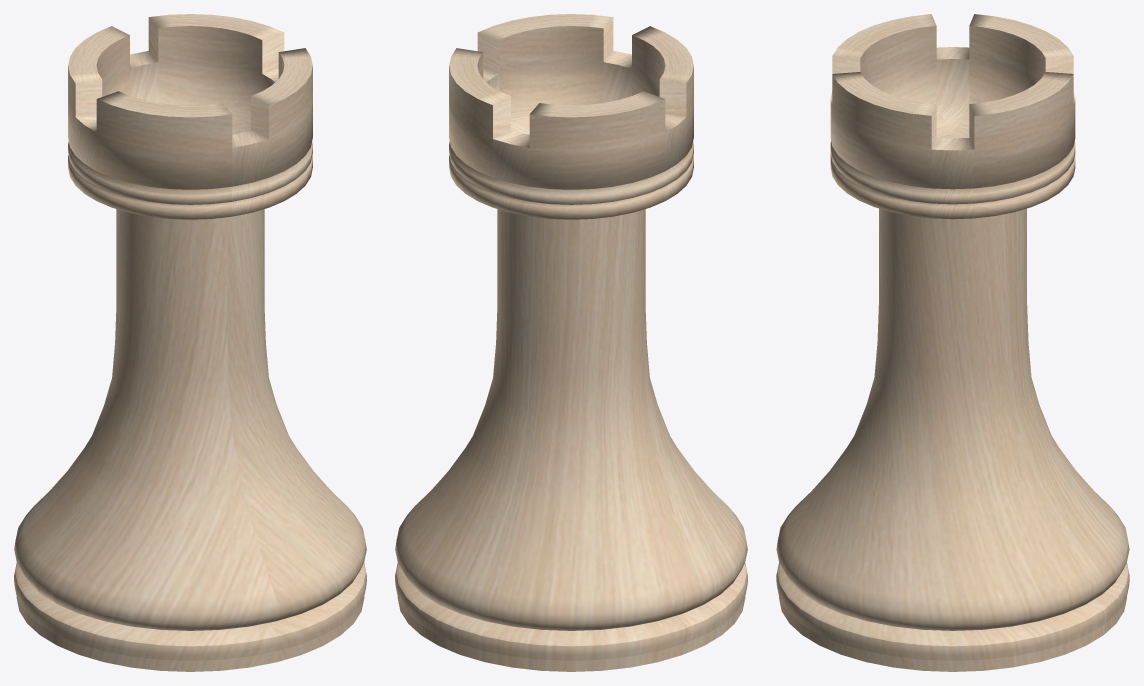
Rendered from rook.glb.
3 renders of one model, left to right at view 1: azimuth 30°, elevation 25°; view 2: azimuth 150°, elevation 25°; view 3: azimuth 270°, elevation 25°, orthographic.
Visible parts, largest first — view 1: Object031_02 - Default_0; view 2: Object031_02 - Default_0; view 3: Object031_02 - Default_0.
Part boxes in pixels (box(x1,y1,x2,y2)): Object031_02 - Default_0: box(14, 14, 366, 671); Object031_02 - Default_0: box(395, 14, 747, 671); Object031_02 - Default_0: box(776, 14, 1129, 671).
Bounding box in the file's own units: 0.0157 × 0.0262 × 0.0157.
1 material, 1 textured.
